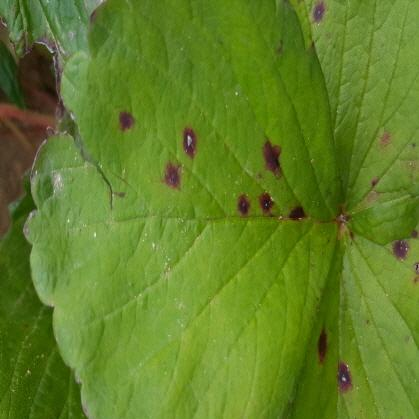Leaf Spot: (22, 0, 340, 418), (289, 0, 418, 244), (287, 221, 418, 418)
